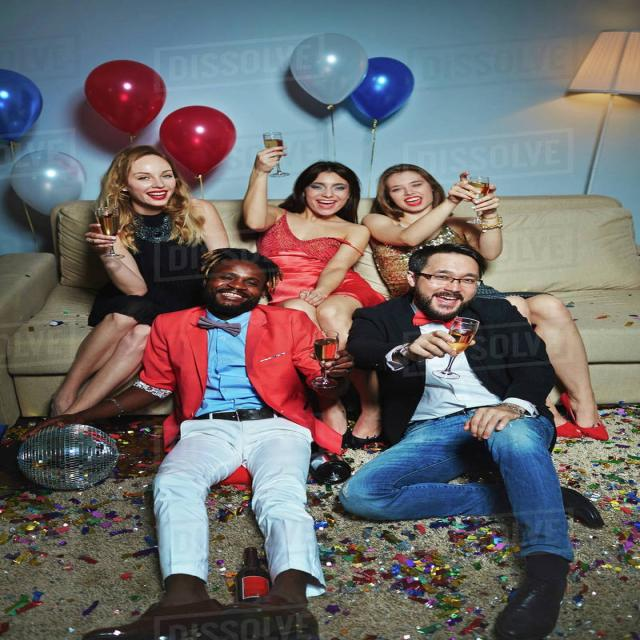body: (12, 245, 358, 640), (335, 240, 610, 640), (357, 161, 612, 447), (46, 143, 234, 427), (239, 143, 389, 452)
